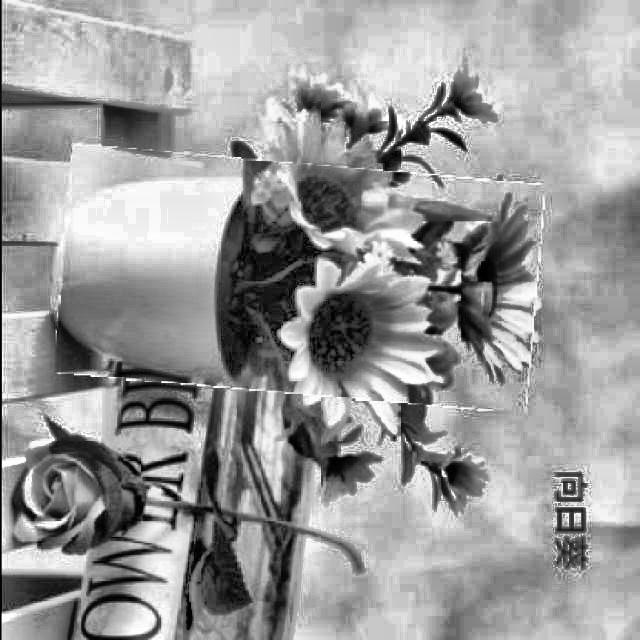plants: (56, 153, 538, 402)
